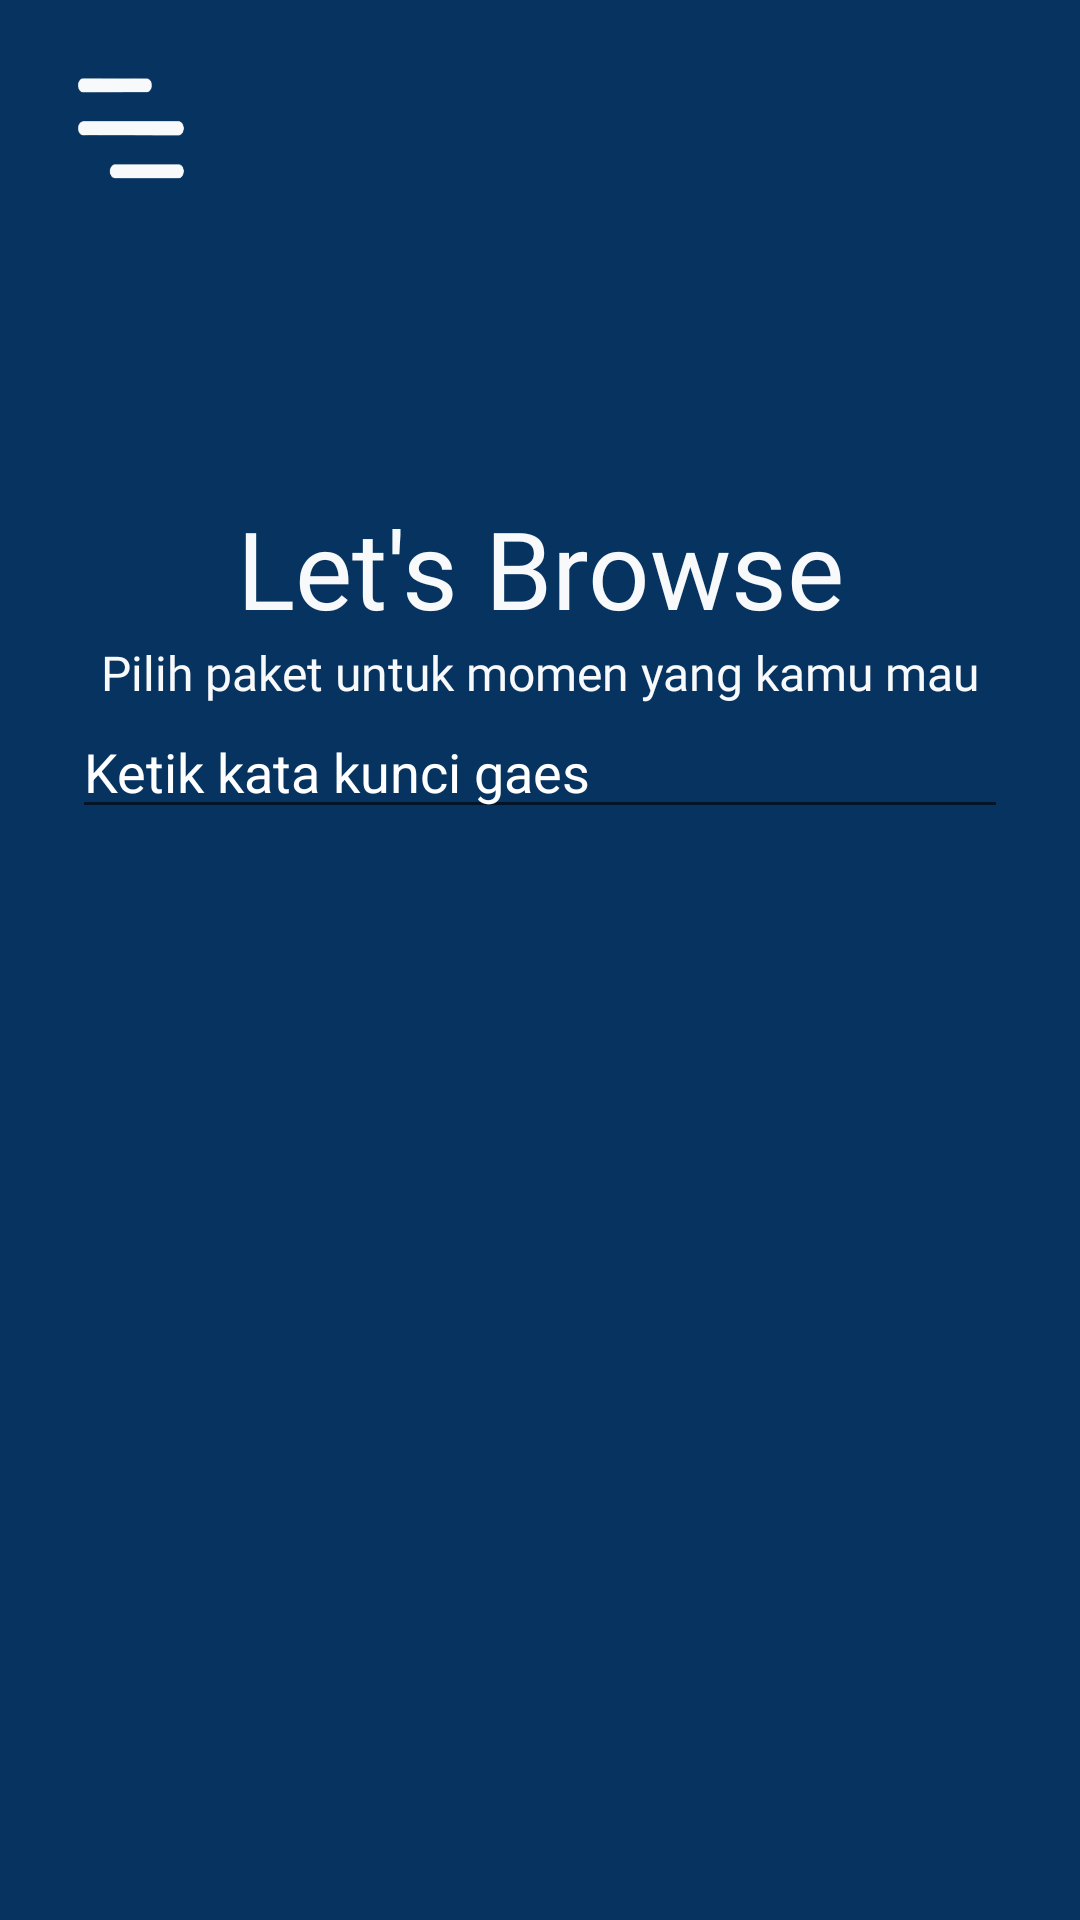

Locate icon controls on the screen. Image size 1080×1920, boxes as (x1, y1, x2, y2).
burger: (78, 78, 184, 179)
